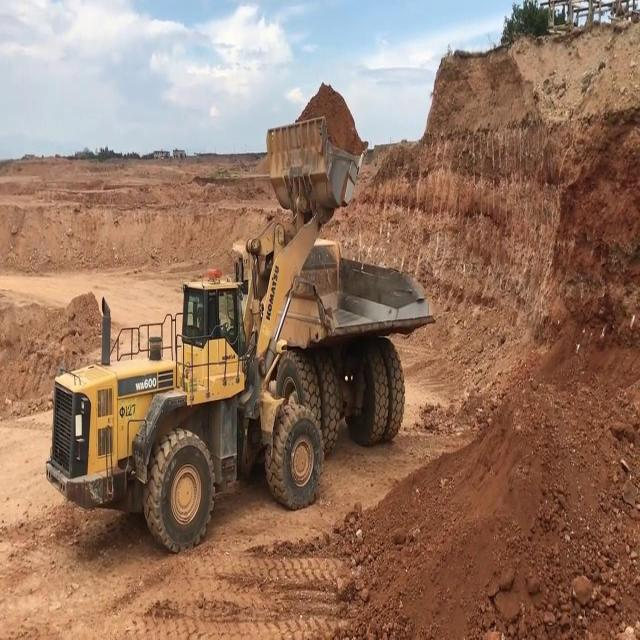buldozerpayloadergrader: (41, 121, 367, 554)
dump_truck: (235, 237, 436, 463)
